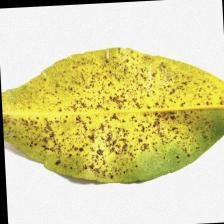canker: (45, 71, 187, 155)
